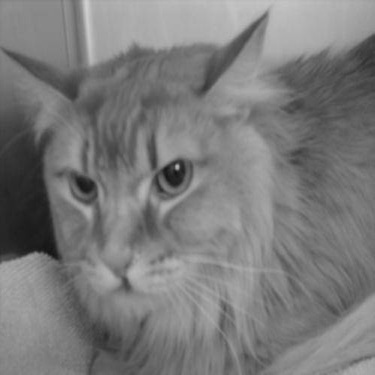cat: (5, 8, 369, 370)
